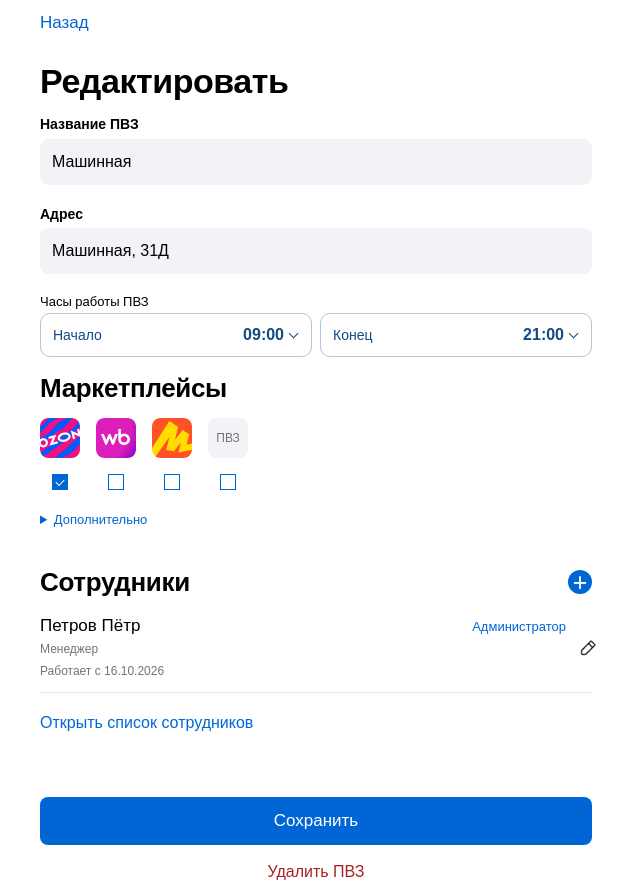
редактирование заполняет форму и отправляет PUT с обоими временами
Expected: the button with aria-label "Начало работы: 09:00" is shown, x1=40 y1=313 x2=312 y2=357
Replace the text in the field labelled "Название ПВЗ" with "Новое имя" at coordinates (316, 162), box x1=40 y1=139 x2=592 y2=185
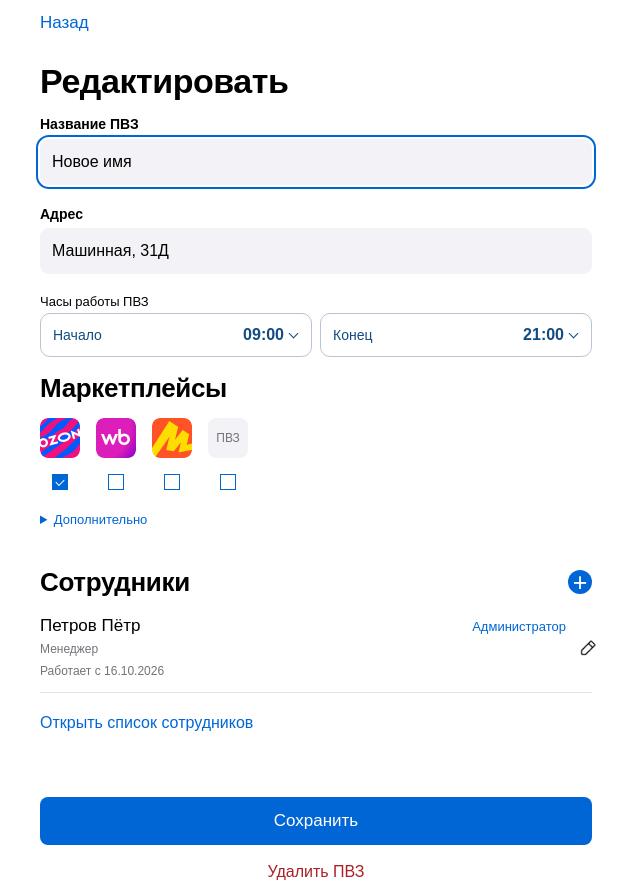
Click the button "Сохранить" at coordinates (316, 821), box x1=40 y1=797 x2=592 y2=845
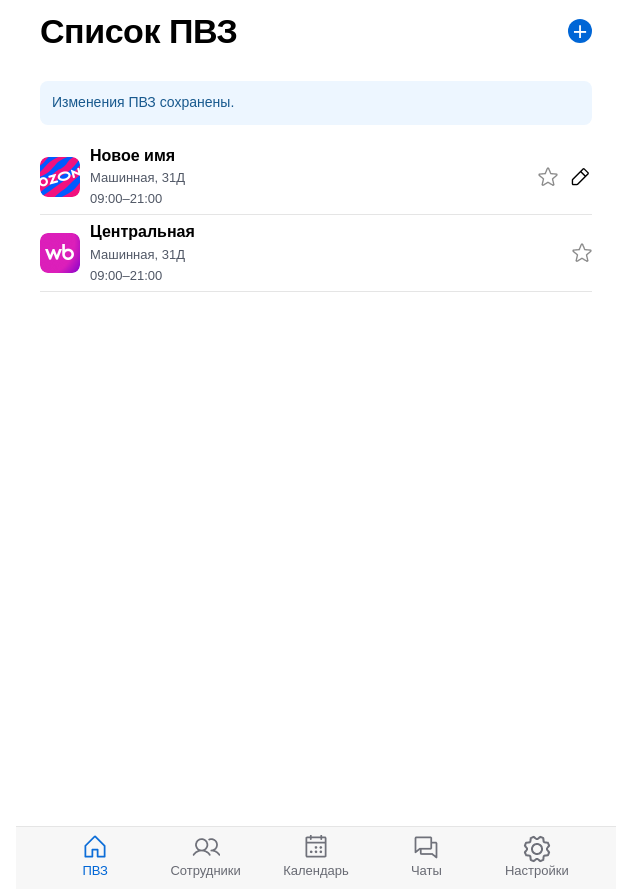
Result: the text "Изменения ПВЗ сохранены." is shown at x1=40 y1=81 x2=592 y2=125
